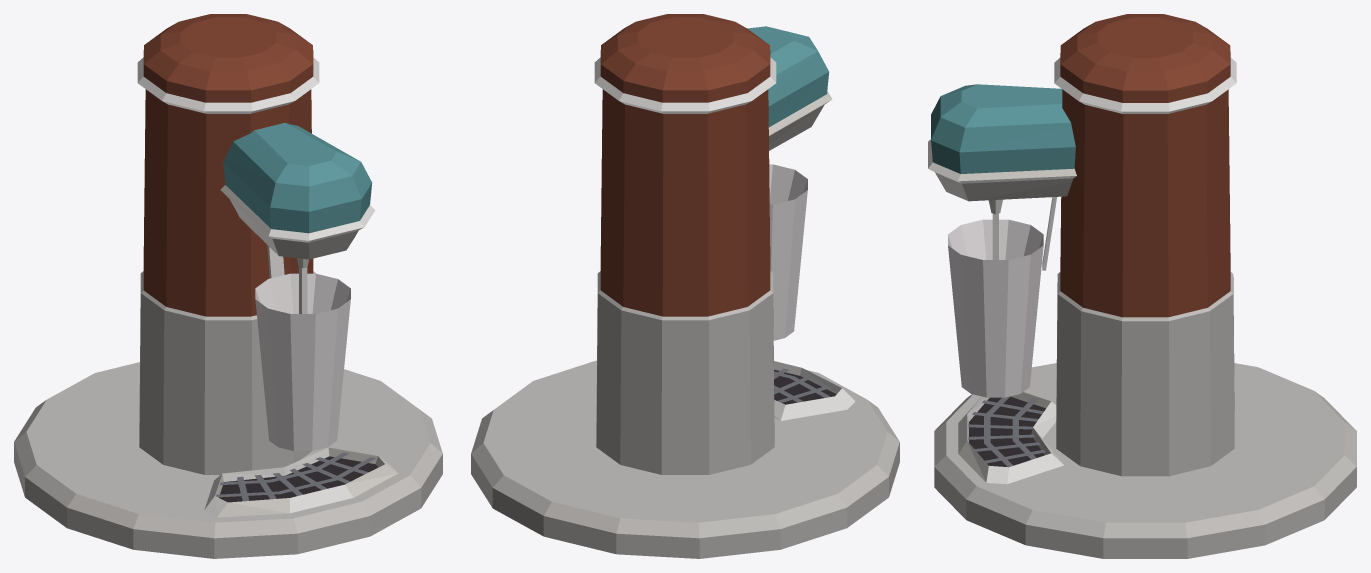
File: milkshake-mixer-838947.glb
3 renders of one model, left to right at view 1: azimuth 30°, elevation 25°; view 2: azimuth 150°, elevation 25°; view 3: azimuth 270°, elevation 25°, orthographic.
Parts seen in each view (by area): view 1: mixer-enamel, cup-front-mesh, mixer-chrome; view 2: mixer-enamel, mixer-chrome, cup-front-mesh; view 3: mixer-enamel, cup-front-mesh, mixer-chrome.
Part boxes in pixels (x1,y1,x2,y2): mixer-enamel: (14, 14, 442, 558); cup-front-mesh: (255, 273, 350, 451); mixer-chrome: (137, 57, 398, 517); mixer-enamel: (471, 14, 899, 558); mixer-chrome: (594, 57, 855, 420); cup-front-mesh: (769, 164, 807, 340); mixer-enamel: (931, 14, 1356, 558); cup-front-mesh: (948, 219, 1043, 397); mixer-chrome: (928, 57, 1236, 484).
Bounding box in the file's own units: 0.4433 × 0.5 × 0.4497.
